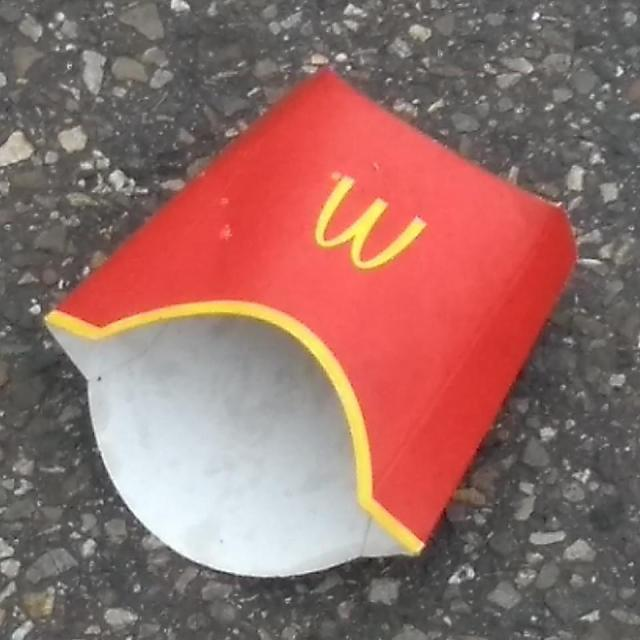Paper: (36, 63, 580, 583)
